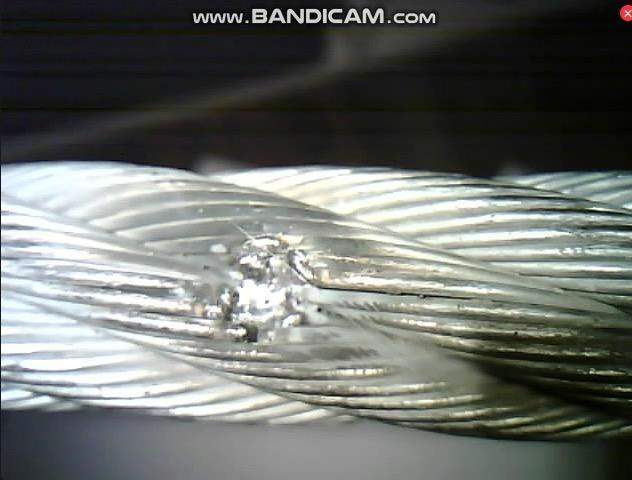thunderbolt: (197, 223, 347, 360)
